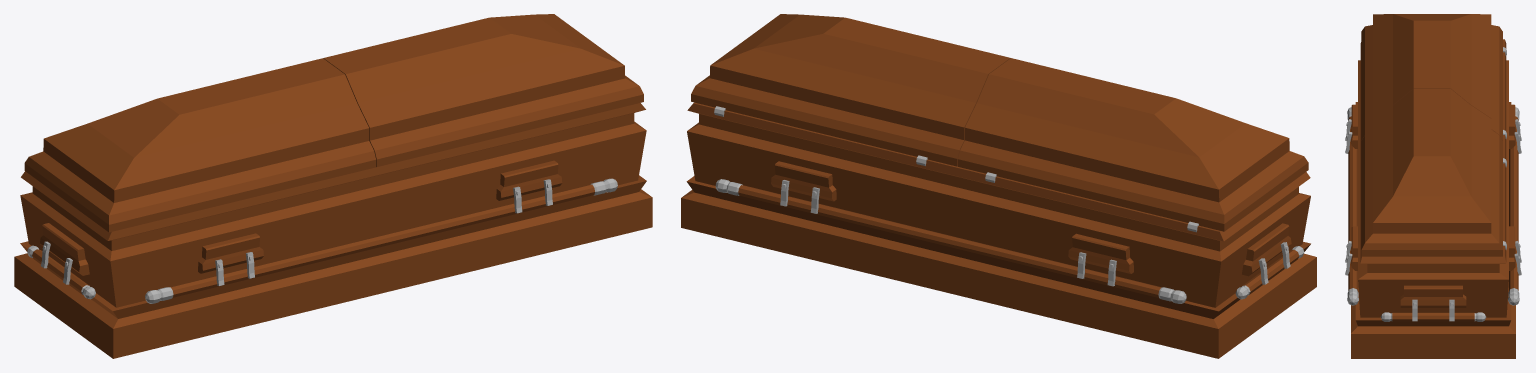
Rendered from SM_casket.glb.
3 renders of one model, left to right at view 1: azimuth 30°, elevation 25°; view 2: azimuth 150°, elevation 25°; view 3: azimuth 270°, elevation 25°, orthographic. The views are drawn at different scales.
Parts seen in each view (by area): view 1: SM_casket; view 2: SM_casket; view 3: SM_casket.
Part boxes in pixels (x1=…): SM_casket: x1=14, y1=14, x2=652, y2=358; SM_casket: x1=681, y1=14, x2=1316, y2=358; SM_casket: x1=1345, y1=14, x2=1521, y2=358.
Bounding box in the file's own units: 2.42 × 0.7896 × 0.7867.
Materials: 1 (1 with a texture image).
